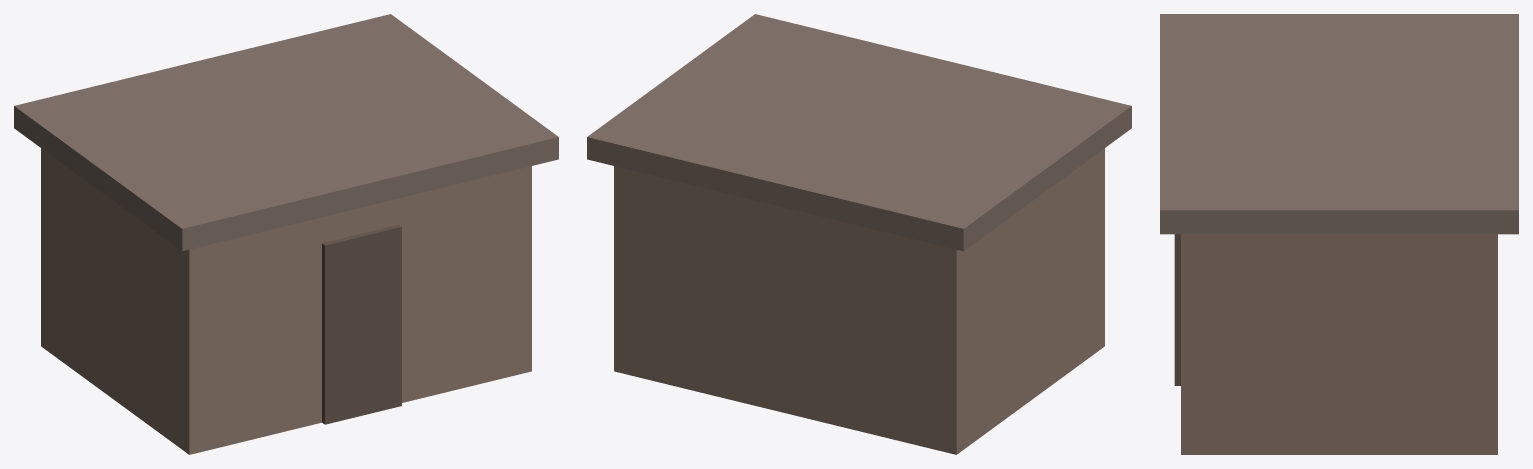
The model's file is variant.glb.
3 views of the same model, side by side, from view 1: azimuth 30°, elevation 25°; view 2: azimuth 150°, elevation 25°; view 3: azimuth 270°, elevation 25° (orthographic). The views are drawn at different scales.
Visible parts, largest first — view 1: walls, roof, door; view 2: walls, roof; view 3: roof, walls, door.
Part boxes in pixels (bbox=[...]): walls: bbox=[41, 148, 531, 454]; roof: bbox=[14, 14, 558, 251]; door: bbox=[322, 224, 401, 424]; walls: bbox=[614, 148, 1104, 454]; roof: bbox=[587, 14, 1131, 251]; roof: bbox=[1160, 14, 1518, 234]; walls: bbox=[1181, 234, 1497, 454]; door: bbox=[1174, 234, 1180, 385].
Bounding box in the file's own units: 4.4 × 2.65 × 3.4.
